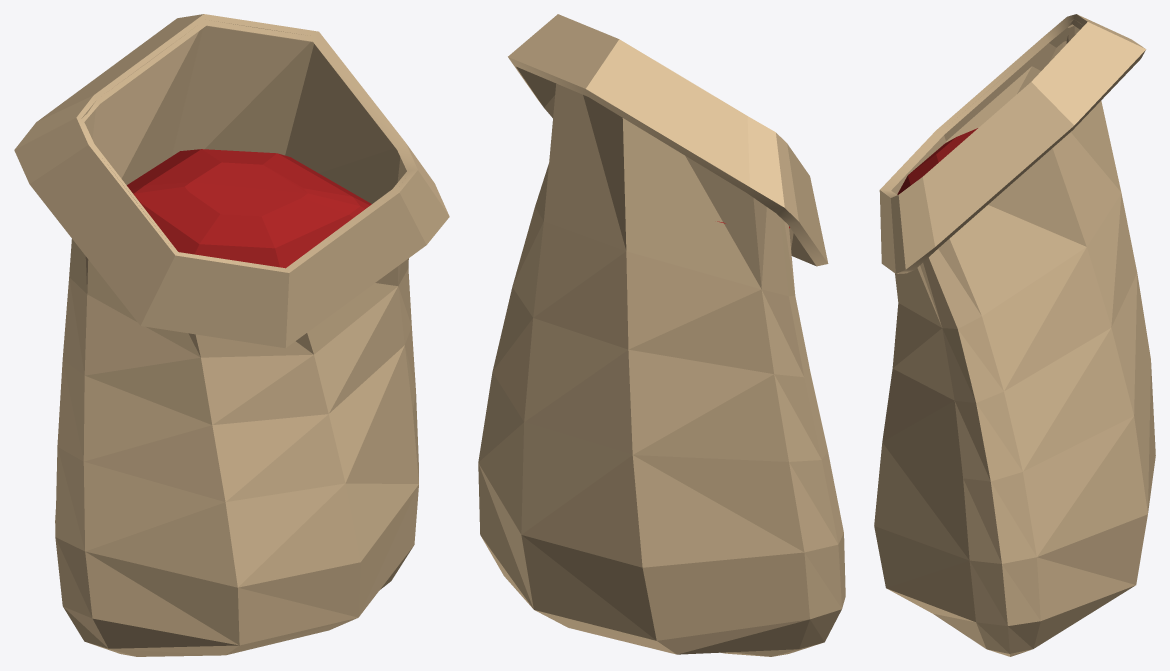
Rendered from SM_sack_03.fbx.
3 views of the same model, side by side, from view 1: azimuth 30°, elevation 25°; view 2: azimuth 150°, elevation 25°; view 3: azimuth 270°, elevation 25° (orthographic). The views are drawn at different scales.
Visible parts, largest first — view 1: Box055; view 2: Box055; view 3: Box055.
Part boxes in pixels (x1,y1,x2,y2): Box055: (14,14,449,656); Box055: (478,14,845,656); Box055: (874,14,1155,656).
Size of the model in its own units: 25.02 by 40.78 by 17.5.
